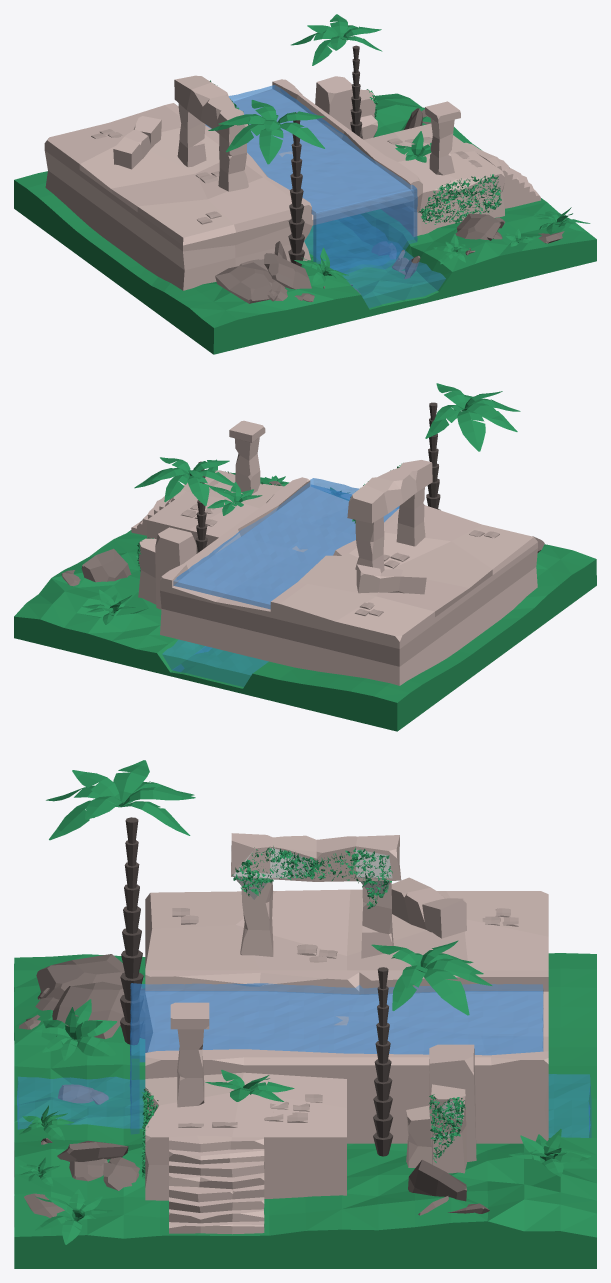
File: applied_ruin.gltf
3 views of the same model, one above another, from view 1: azimuth 30°, elevation 25°; view 2: azimuth 150°, elevation 25°; view 3: azimuth 270°, elevation 25° (orthographic). The views are drawn at different scales.
Parts seen in each view (by area): view 1: Structure, Ground, Water, Water.001, Pillar.003, Pillar.001, Rock, Pillar, Palm.001, Ruin.002, Structure.001, Pillar.004 (+7 smaller); view 2: Structure, Ground, Water, Pillar.003, Water.001, Pillar.001, Pillar, Ruin.002, Pillar.004, Pillar.002, Rock.022, Ruin.003 (+4 smaller); view 3: Structure, Ground, Water, Structure.001, Water.001, Pillar.003, Palm.001, Pillar.001, Pillar, Ruin.002, Palm, Rock (+14 smaller).
Boxes of the visible parts, bbox=[...] form: Structure: bbox=[44, 79, 504, 290]; Ground: bbox=[14, 93, 596, 354]; Water: bbox=[205, 85, 417, 273]; Water.001: bbox=[304, 225, 445, 307]; Pillar.003: bbox=[174, 75, 248, 141]; Pillar.001: bbox=[425, 101, 460, 175]; Rock: bbox=[215, 262, 284, 303]; Pillar: bbox=[113, 116, 161, 169]; Palm.001: bbox=[288, 112, 304, 266]; Ruin.002: bbox=[315, 76, 352, 130]; Structure.001: bbox=[464, 142, 540, 208]; Pillar.004: bbox=[177, 103, 206, 167]; Structure: bbox=[147, 470, 537, 685]; Ground: bbox=[14, 472, 596, 731]; Water: bbox=[173, 478, 399, 608]; Pillar.003: bbox=[347, 460, 432, 523]; Water.001: bbox=[162, 640, 268, 686]; Pillar.001: bbox=[229, 420, 265, 493]; Pillar: bbox=[356, 564, 426, 594]; Ruin.002: bbox=[155, 527, 196, 609]; Pillar.004: bbox=[355, 516, 384, 573]; Pillar.002: bbox=[396, 487, 425, 546]; Rock.022: bbox=[81, 548, 131, 582]; Ruin.003: bbox=[138, 538, 156, 604]; Structure: bbox=[145, 889, 548, 1200]; Ground: bbox=[14, 953, 596, 1268]; Water: bbox=[130, 983, 543, 1134]; Structure.001: bbox=[169, 1135, 264, 1234]; Water.001: bbox=[17, 1074, 591, 1137]; Pillar.003: bbox=[231, 833, 401, 881]; Palm.001: bbox=[120, 817, 143, 1044]; Pillar.001: bbox=[170, 1002, 209, 1107]; Pillar: bbox=[391, 877, 466, 938]; Ruin.002: bbox=[429, 1044, 476, 1161]; Palm: bbox=[373, 967, 392, 1156]; Rock: bbox=[36, 954, 142, 999].
Size of what is drawn, in the model's own units: 13.99 by 6.79 by 12.26.
